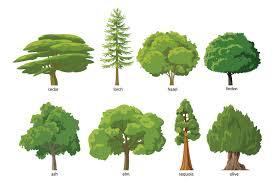tree: (90, 104, 168, 171), (14, 32, 96, 88), (19, 101, 83, 170), (208, 105, 263, 170), (137, 30, 201, 85), (205, 32, 263, 88), (101, 8, 134, 87), (174, 98, 203, 171)
